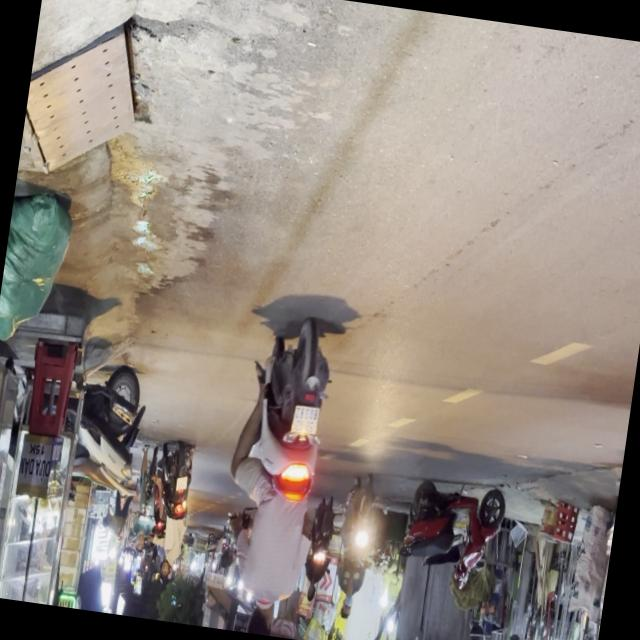licenseplate: (210, 317, 345, 640), (587, 385, 633, 640)
motorcyclist: (247, 602, 279, 636)
nohelmet: (292, 407, 321, 438)
